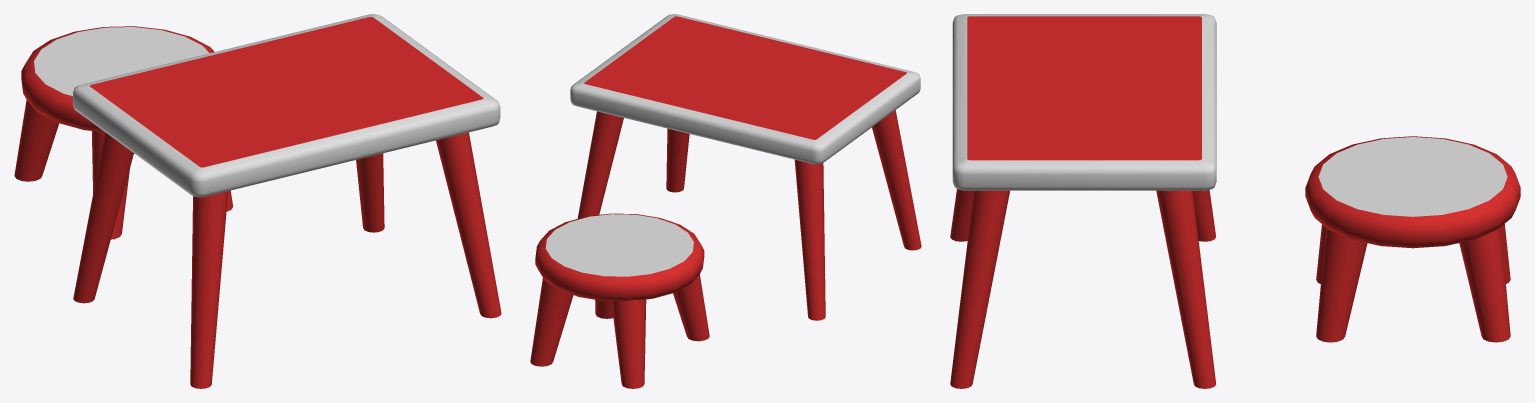
The model's file is ban-ghe.FBX.
3 views of the same model, side by side, from view 1: azimuth 30°, elevation 25°; view 2: azimuth 150°, elevation 25°; view 3: azimuth 270°, elevation 25° (orthographic). The views are drawn at different scales.
Visible parts, largest first — view 1: Box002, Cylinder001; view 2: Box002, Cylinder001; view 3: Box002, Cylinder001.
Part boxes in pixels (bbox=[...]): Box002: bbox=[73, 14, 501, 388]; Cylinder001: bbox=[14, 26, 232, 239]; Box002: bbox=[570, 14, 921, 320]; Cylinder001: bbox=[530, 213, 709, 388]; Box002: bbox=[950, 14, 1216, 388]; Cylinder001: bbox=[1305, 136, 1520, 342].
Size of the model in its own units: 3.3 by 2.18 by 5.07.
